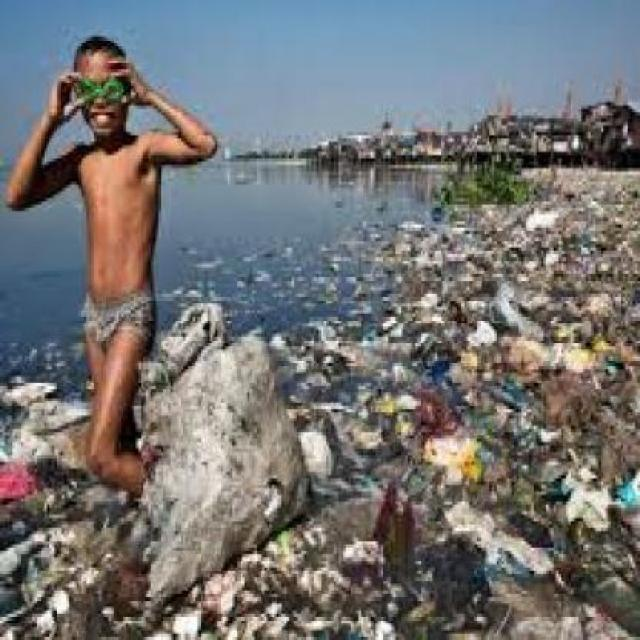garbage: (159, 317, 634, 637), (191, 237, 638, 320), (3, 360, 89, 637), (408, 145, 638, 248)
